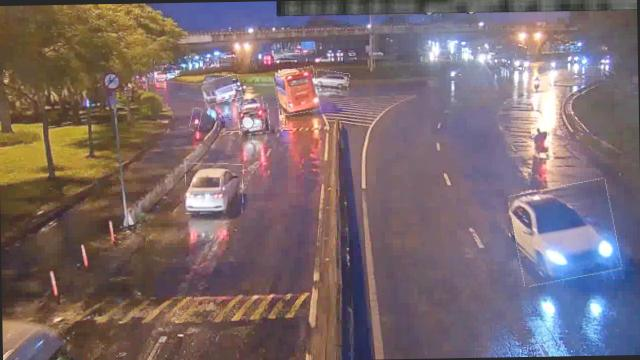Bike: (532, 124, 552, 160), (190, 106, 200, 130)
Bus: (274, 67, 318, 114)
Car: (511, 180, 619, 283), (184, 163, 243, 214), (237, 102, 269, 134), (316, 70, 349, 90), (238, 93, 262, 112)
Truck: (203, 76, 242, 103)
